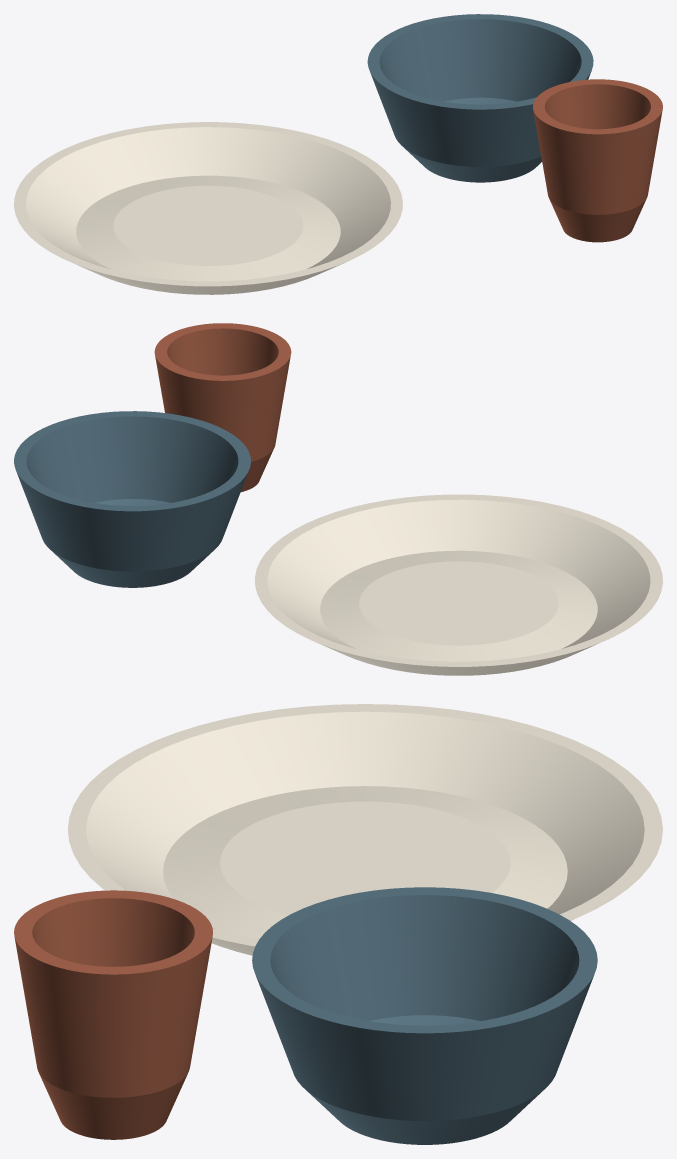
Rendered from dish_set.glb.
3 renders of one model, top to bottom at view 1: azimuth 30°, elevation 25°; view 2: azimuth 150°, elevation 25°; view 3: azimuth 270°, elevation 25°, orthographic. The views are drawn at different scales.
Parts seen in each view (by area): view 1: Dinner plate, Cereal bowl, Cup; view 2: Dinner plate, Cereal bowl, Cup; view 3: Dinner plate, Cereal bowl, Cup.
Part boxes in pixels (x1,y1,x2,y2): Dinner plate: (14, 122, 402, 294); Cereal bowl: (367, 14, 593, 182); Cup: (533, 79, 662, 242); Dinner plate: (255, 494, 662, 675); Cereal bowl: (14, 411, 250, 587); Cup: (154, 323, 291, 492); Dinner plate: (67, 704, 662, 955); Cereal bowl: (252, 887, 597, 1144); Cup: (14, 890, 212, 1139).
Bounding box in the file's own units: 0.4305 × 0.089 × 0.2835.
